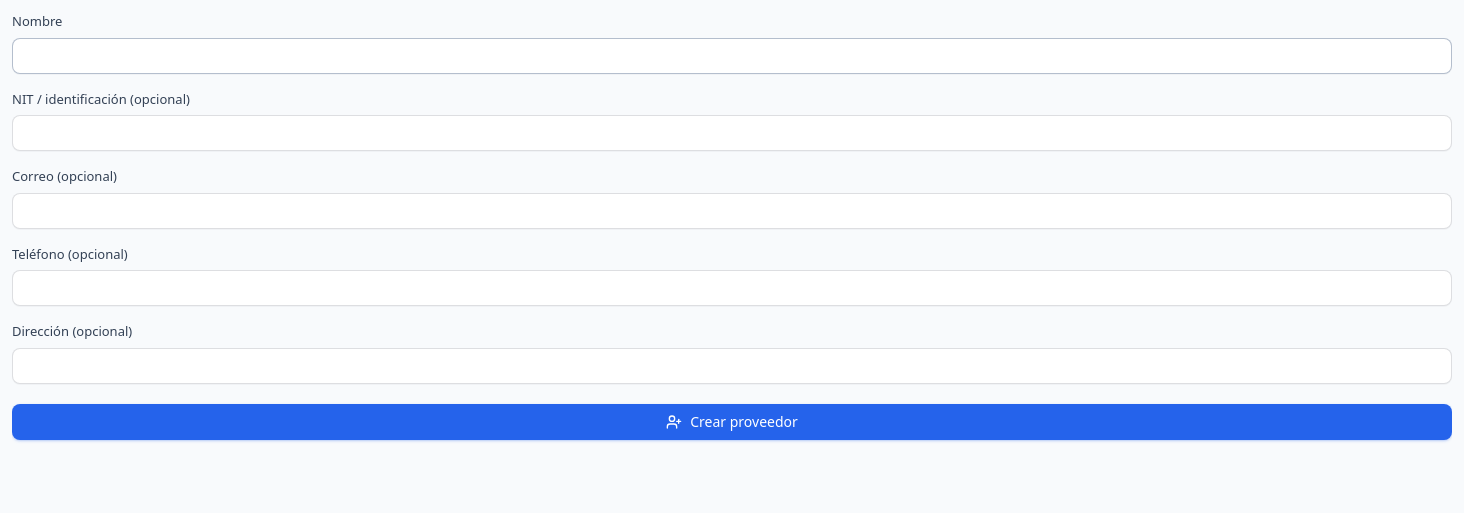
Test: SupplierForm › shows the backend error message when the API rejects the request
Type "Proveedor Nuevo" into the field labelled "Nombre" at (732, 56), box [12,38,1452,74]
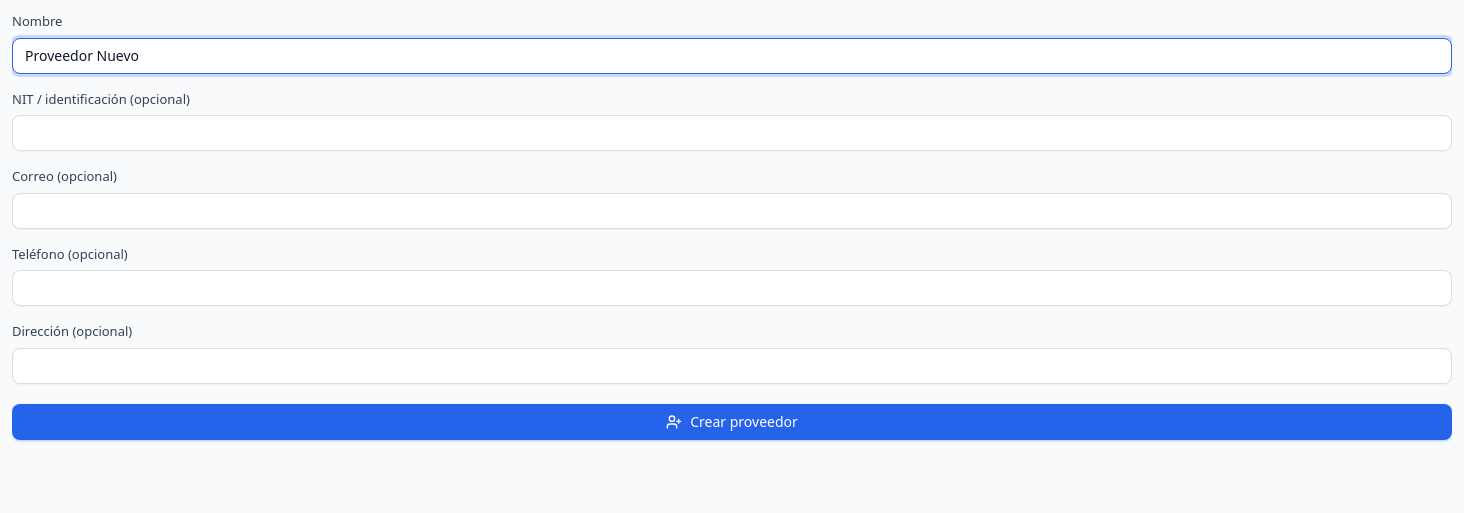
Click the button "Crear proveedor" at (732, 422), box [12,404,1452,440]
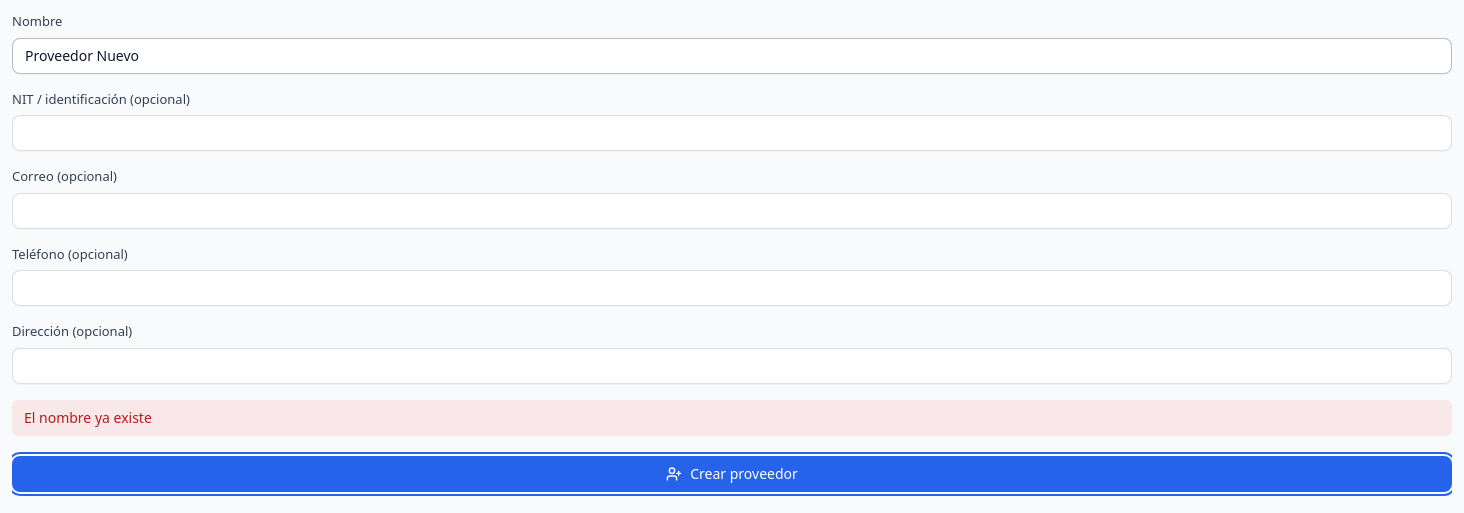
Expected: the text "El nombre ya existe" is shown, [12,400,1452,436]
